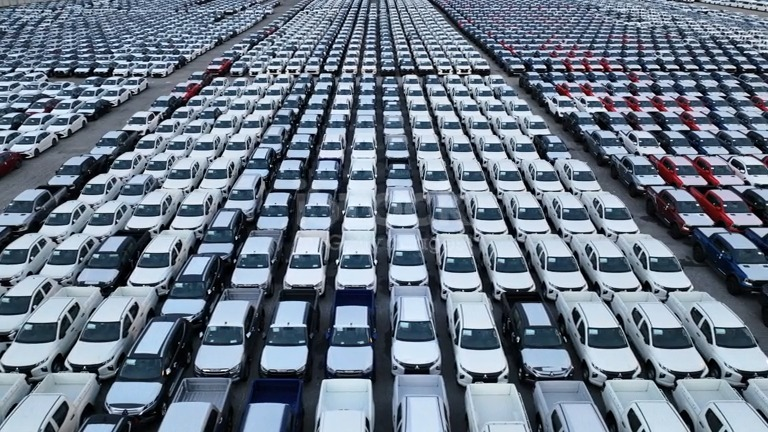car: (42, 233, 102, 282), (36, 202, 91, 242), (82, 198, 135, 235), (225, 175, 264, 220), (79, 173, 125, 205), (7, 131, 55, 159), (105, 151, 144, 179), (48, 114, 88, 139), (75, 98, 110, 120), (19, 113, 54, 131), (101, 88, 129, 106), (122, 75, 147, 93), (153, 61, 175, 77)
pickup: (662, 289, 767, 385), (0, 284, 105, 378), (101, 315, 192, 410), (615, 291, 706, 385), (60, 289, 156, 378), (559, 289, 641, 383), (188, 287, 261, 379), (506, 294, 576, 382), (683, 225, 767, 293), (256, 292, 321, 373), (447, 293, 503, 378), (619, 233, 693, 297), (674, 378, 768, 428), (322, 291, 374, 378), (0, 373, 76, 431), (75, 229, 151, 286), (127, 232, 194, 296), (572, 232, 638, 293), (526, 234, 587, 299), (605, 385, 686, 432), (530, 382, 605, 432), (479, 235, 535, 299), (333, 228, 384, 296), (232, 230, 283, 296), (396, 291, 438, 371), (435, 230, 485, 297), (652, 185, 717, 235), (0, 233, 53, 294), (243, 379, 304, 431), (173, 379, 234, 430), (695, 186, 763, 229), (2, 187, 57, 238), (283, 231, 328, 293), (398, 378, 448, 432), (466, 388, 527, 432), (124, 188, 182, 232), (168, 188, 220, 237), (197, 208, 245, 260), (387, 228, 428, 288), (320, 381, 368, 432), (45, 155, 105, 195), (503, 192, 550, 241), (464, 192, 507, 240), (600, 156, 652, 195), (255, 190, 299, 234), (639, 155, 695, 188), (486, 155, 528, 197), (162, 157, 208, 194), (716, 156, 767, 185), (187, 157, 228, 193), (342, 191, 374, 237), (88, 131, 137, 161), (428, 191, 463, 233), (527, 162, 565, 200), (574, 130, 616, 164), (696, 404, 746, 431), (681, 157, 729, 185), (387, 187, 417, 228), (555, 111, 590, 142), (419, 159, 451, 192), (625, 129, 668, 153), (656, 129, 700, 152), (420, 160, 451, 191), (692, 130, 731, 153), (348, 159, 374, 192), (547, 95, 576, 120), (587, 113, 622, 132), (627, 113, 660, 130), (423, 169, 449, 189), (0, 153, 13, 170)
